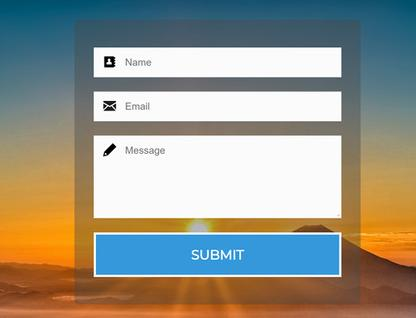button: (92, 232, 343, 277)
field: (93, 135, 342, 218), (93, 47, 342, 78), (93, 91, 342, 121)
